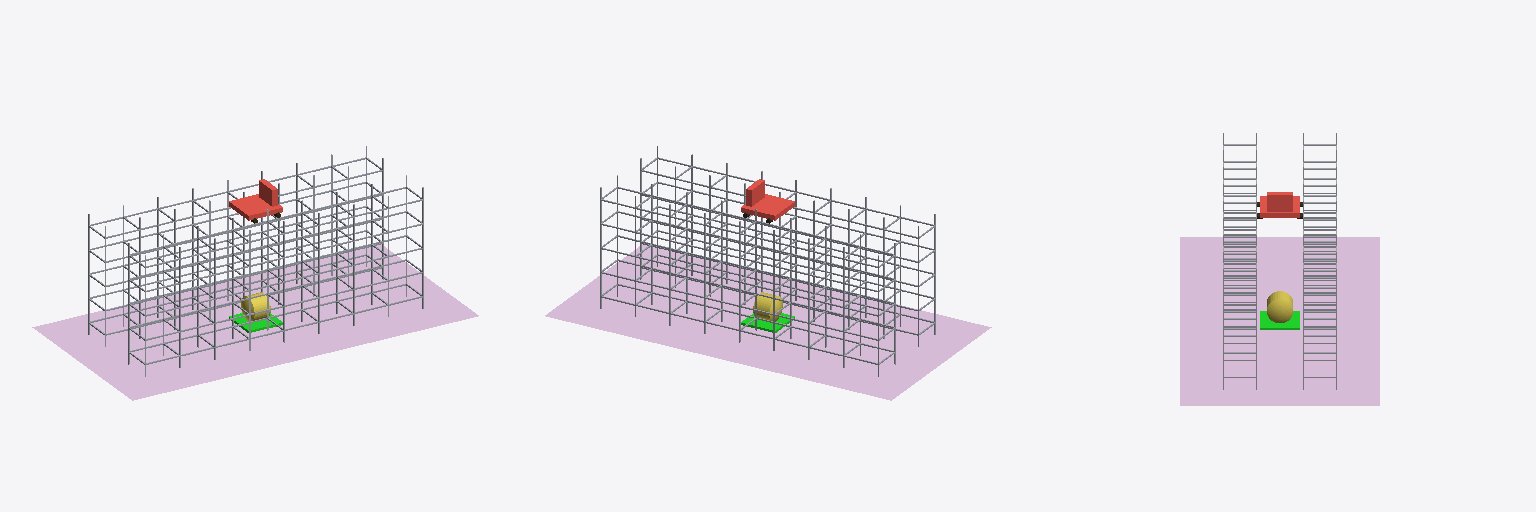
Rendered from laufkatze.obj.
3 views of the same model, side by side, from view 1: azimuth 30°, elevation 25°; view 2: azimuth 150°, elevation 25°; view 3: azimuth 270°, elevation 25° (orthographic).
Visible parts, largest first — view 1: Ebene, Regal2, Regal1, Wagen2; view 2: Ebene, Regal1, Regal2, Wagen2; view 3: Ebene, Regal1, Regal2, _ltank.
Boxes of the visible parts, x1,y1,x2,y2 form: Ebene: [32, 244, 478, 400]; Regal2: [128, 175, 423, 376]; Regal1: [88, 146, 383, 346]; Wagen2: [229, 194, 282, 220]; Ebene: [545, 244, 991, 400]; Regal1: [600, 175, 895, 376]; Regal2: [640, 146, 935, 346]; Wagen2: [741, 194, 794, 220]; Ebene: [1180, 237, 1379, 405]; Regal1: [1303, 133, 1336, 389]; Regal2: [1223, 133, 1256, 389]; _ltank: [1267, 291, 1292, 322].
Size of the model in its own units: 30 by 11.27 by 15.